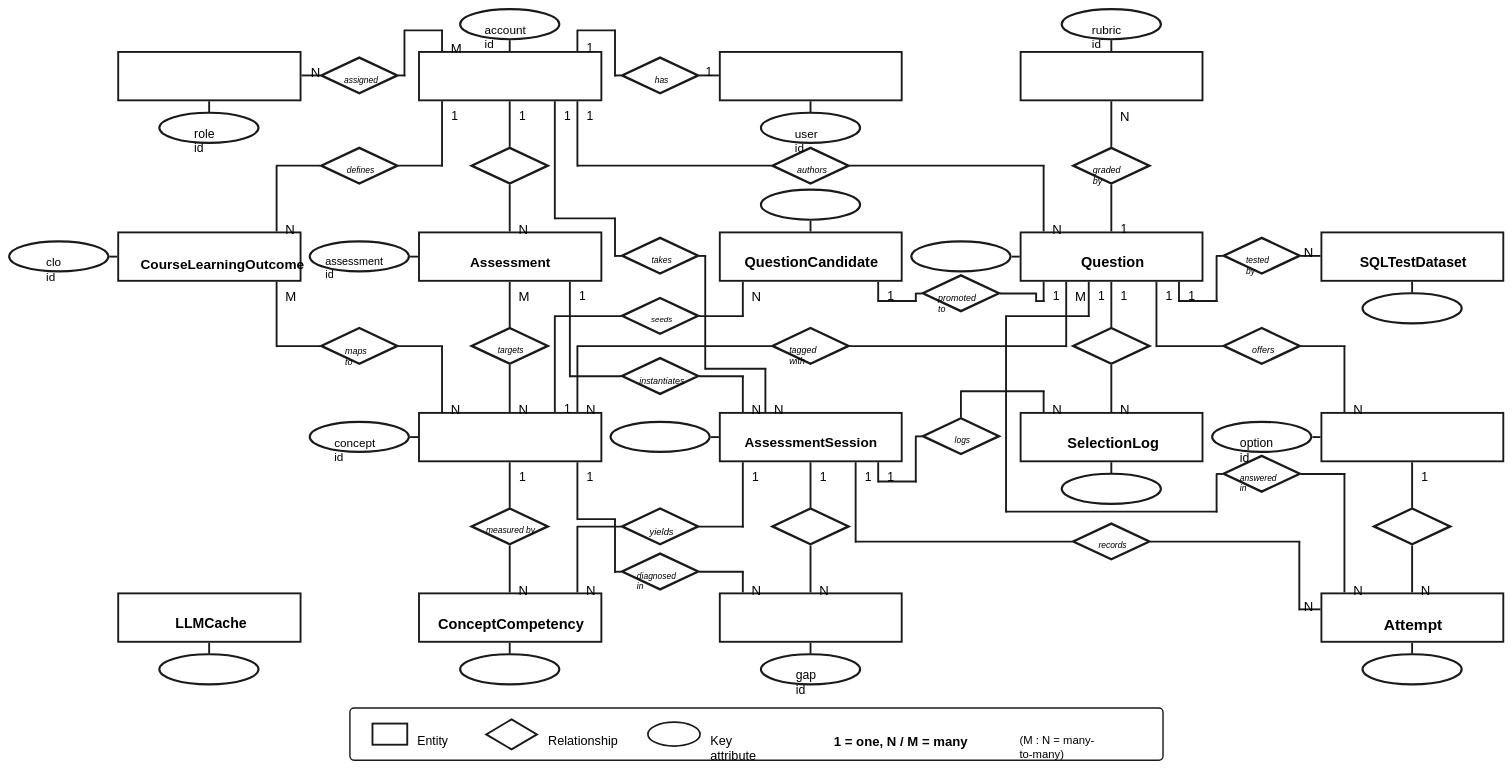
The diagram is 1512 pixels wide and 772 high, and some of its shapes have lost their labels. Each missing label, with the centre of its shape:
"Account" belongs at [510,76].
"attempt id" belongs at [1412,669].
"cache id" belongs at [208,669].
"candidate id" belongs at [810,204].
"chosen in" belongs at [1111,346].
"competency id" belongs at [509,669].
"CompetencyGap" belongs at [810,617].
"Concept" belongs at [510,437].
"configures" belongs at [509,165].
"dataset id" belongs at [1412,308].
"flags" belongs at [810,526].
"key" belongs at [674,734].
"log id" belongs at [1111,488].
"MCQOption" belongs at [1412,437].
"question id" belongs at [960,256].
"Role" belongs at [209,76].
"Rubric" belongs at [1111,76].
"selected in" belongs at [1412,526].
"session id" belongs at [660,437].
"UserProfile" belongs at [810,76].
